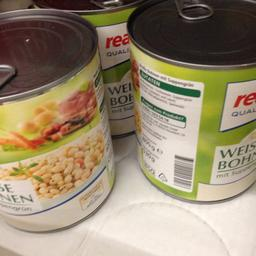beans: (0, 6, 112, 231)
